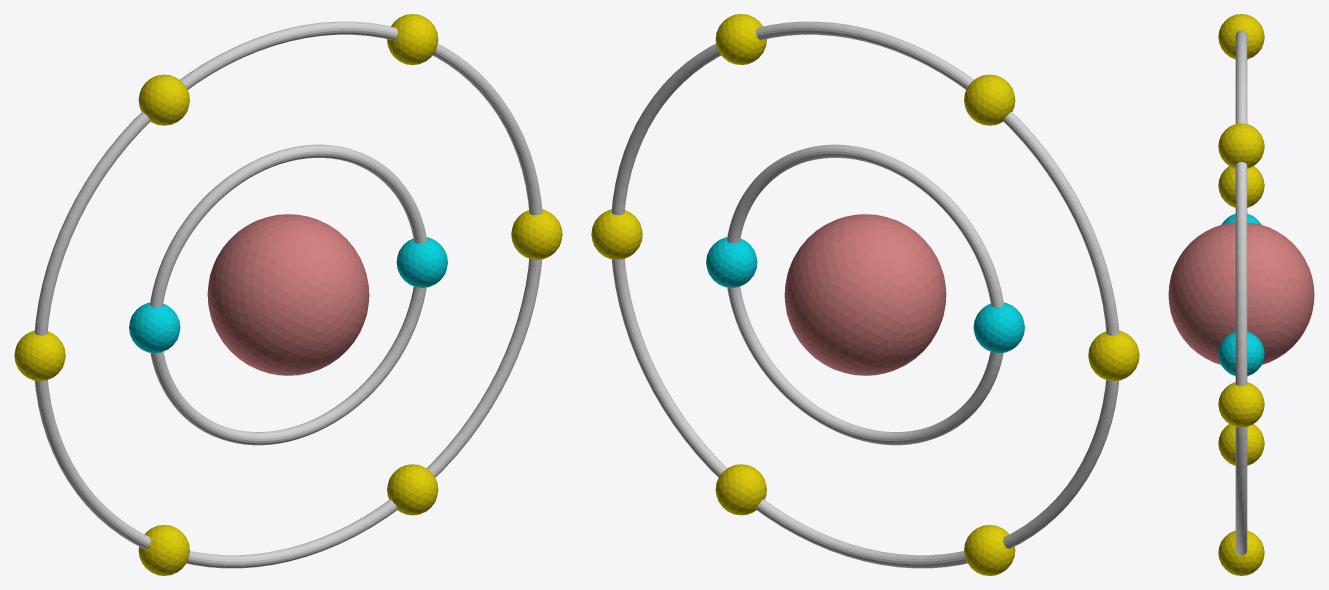
3 renders of one model, left to right at view 1: azimuth 30°, elevation 25°; view 2: azimuth 150°, elevation 25°; view 3: azimuth 270°, elevation 25°, orthographic. The views are drawn at different scales.
Visible parts, largest first — view 1: Nucleo_O, Camada_2, Camada_1, e2_3, e2_6, e2_4, e1_2, e2_1, e1_1, e2_2, e2_5; view 2: Nucleo_O, Camada_2, Camada_1, e2_3, e2_6, e2_4, e1_2, e2_1, e1_1, e2_2, e2_5; view 3: Nucleo_O, Camada_2, e2_1, e2_2, e2_6, e2_3, e1_1, e2_4, e2_5.
Part boxes in pixels (box(x1,y1,x2,y2)): Nucleo_O: box(207, 214, 369, 375); Camada_2: box(34, 21, 542, 568); Camada_1: box(150, 144, 426, 445); e2_3: box(138, 74, 189, 125); e2_6: box(387, 464, 438, 515); e2_4: box(14, 330, 65, 380); e1_2: box(129, 302, 180, 352); e2_1: box(511, 209, 562, 259); e1_1: box(396, 237, 447, 287); e2_2: box(387, 14, 438, 64); e2_5: box(138, 525, 189, 575); Nucleo_O: box(784, 214, 946, 375); Camada_2: box(611, 21, 1119, 568); Camada_1: box(727, 144, 1003, 445); e2_3: box(964, 74, 1015, 125); e2_6: box(715, 464, 766, 515); e2_4: box(1088, 330, 1139, 380); e1_2: box(973, 302, 1024, 352); e2_1: box(591, 209, 642, 259); e1_1: box(706, 237, 757, 287); e2_2: box(715, 14, 766, 64); e2_5: box(964, 525, 1015, 575); Nucleo_O: box(1168, 222, 1314, 364); Camada_2: box(1235, 30, 1247, 555); e2_1: box(1218, 382, 1264, 427); e2_2: box(1218, 123, 1264, 168); e2_6: box(1218, 530, 1264, 575); e2_3: box(1218, 14, 1264, 59); e1_1: box(1218, 331, 1264, 376); e2_4: box(1218, 166, 1264, 207); e2_5: box(1218, 424, 1264, 465).
Size of the model in its own units: 1.7 by 1.6 by 0.44.
